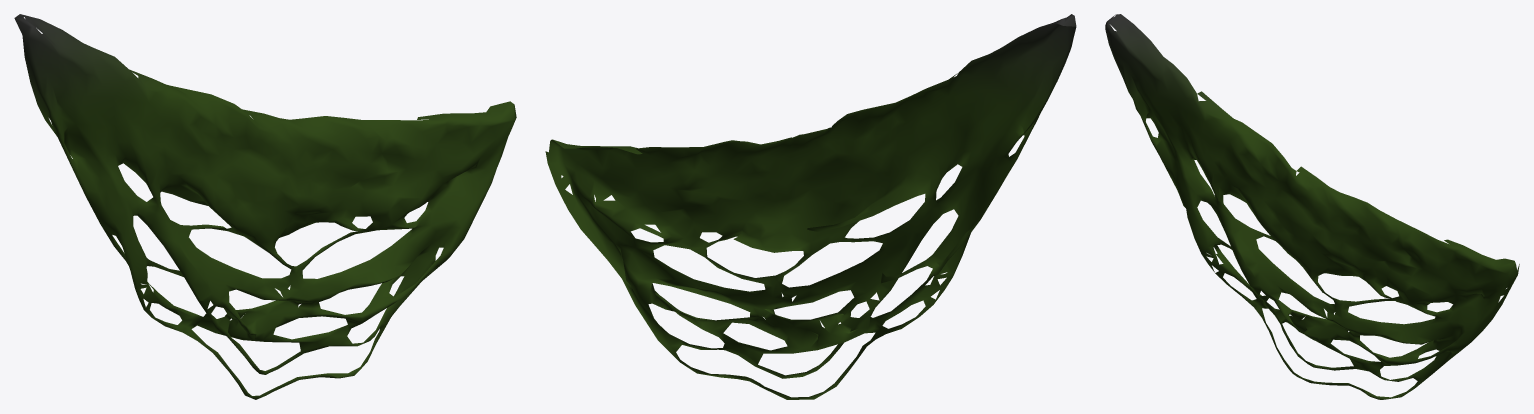
Rendered from SM_Sewer_Slime_03.fbx.
3 views of the same model, side by side, from view 1: azimuth 30°, elevation 25°; view 2: azimuth 150°, elevation 25°; view 3: azimuth 330°, elevation 25° (orthographic). The views are drawn at different scales.
Parts seen in each view (by area): view 1: attribadjustcolor11; view 2: attribadjustcolor11; view 3: attribadjustcolor11.
Boxes of the visible parts, box(x1,y1,x2,y2) form: attribadjustcolor11: box(14, 14, 516, 399); attribadjustcolor11: box(545, 14, 1076, 399); attribadjustcolor11: box(1105, 14, 1519, 399).
Bounding box in the file's own units: 351 × 292 × 55.31.
